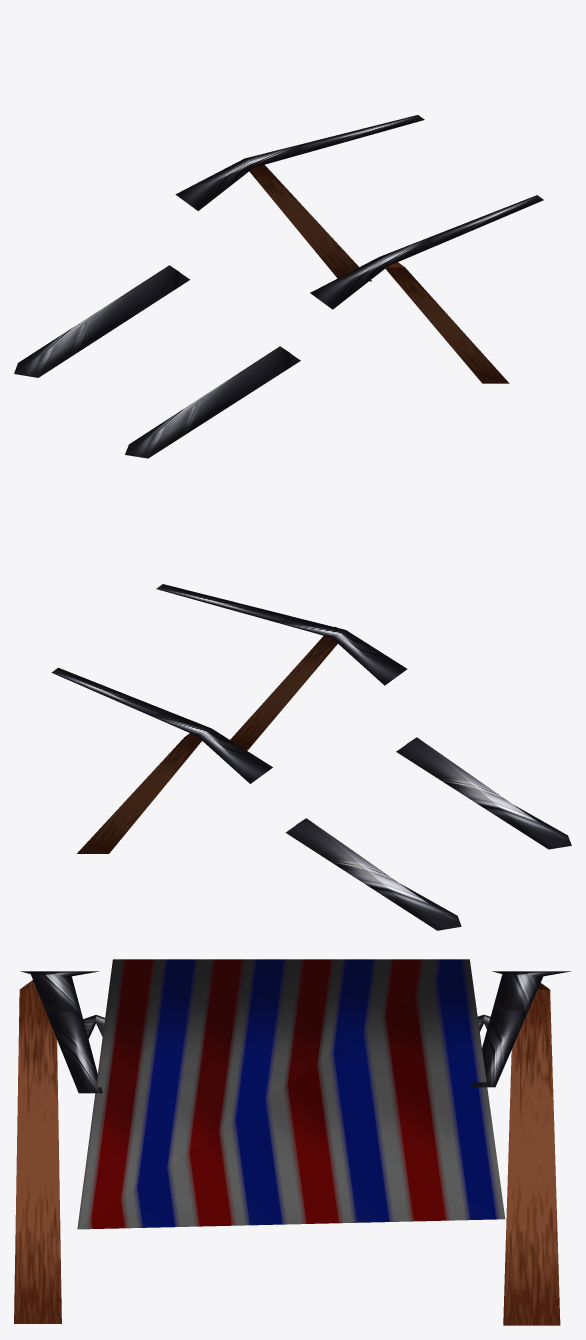
File: Liegestuhl_2084.glb
The picture shows the model from 3 angles, top to bottom: view 1: azimuth 30°, elevation 25°; view 2: azimuth 150°, elevation 25°; view 3: azimuth 270°, elevation 25°; orthographic projection. The views are drawn at different scales.
Parts seen in each view (by area): view 1: pCylinderShape201, pCylinderShape202, pCylinderShape206, pCylinderShape205, pCylinderShape204, pCylinderShape203; view 2: pCylinderShape201, pCylinderShape202, pCylinderShape206, pCylinderShape205, pCylinderShape203, pCylinderShape204; view 3: pPlaneShape1, pCylinderShape203, pCylinderShape204, pCylinderShape206, pCylinderShape205.
Part boxes in pixels (x1,y1,x2,y2): pCylinderShape201: [14, 265, 189, 377]; pCylinderShape202: [125, 346, 300, 458]; pCylinderShape206: [310, 195, 543, 309]; pCylinderShape205: [175, 115, 424, 210]; pCylinderShape204: [385, 262, 509, 383]; pCylinderShape203: [249, 165, 371, 281]; pCylinderShape201: [285, 818, 461, 930]; pCylinderShape202: [396, 737, 571, 849]; pCylinderShape206: [156, 584, 407, 685]; pCylinderShape205: [51, 667, 272, 783]; pCylinderShape203: [77, 733, 201, 853]; pCylinderShape204: [230, 626, 337, 750]; pPlaneShape1: [77, 959, 505, 1229]; pCylinderShape203: [503, 983, 560, 1325]; pCylinderShape204: [14, 980, 61, 1323]; pCylinderShape206: [20, 971, 102, 1093]; pCylinderShape205: [471, 971, 570, 1087].
Size of the model in its own units: 0.3146 by 0.1677 by 0.1918.
Materials: 7 (7 with a texture image).
